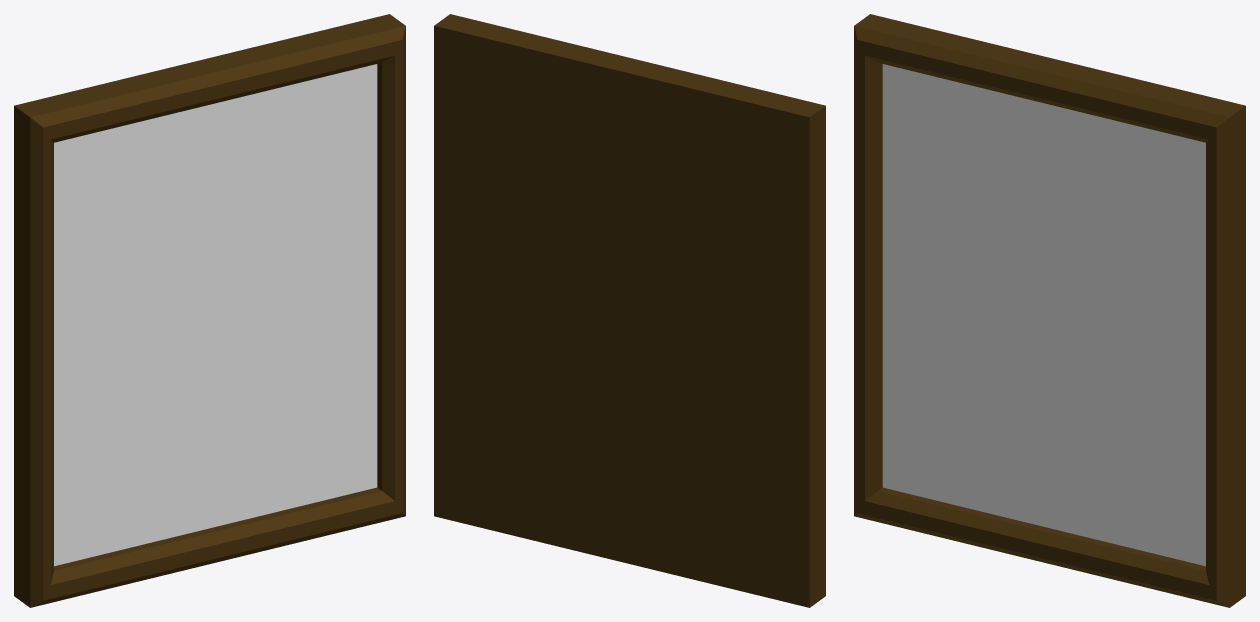
File: geo_SmallWallFrame.fbx
The picture shows the model from 3 angles, left to right: view 1: azimuth 30°, elevation 25°; view 2: azimuth 150°, elevation 25°; view 3: azimuth 330°, elevation 25°; orthographic projection.
Visible parts, largest first — view 1: pCube58; view 2: pCube58; view 3: pCube58.
Part boxes in pixels (x1,y1,x2,y2): pCube58: (14, 14, 405, 607); pCube58: (434, 14, 825, 607); pCube58: (854, 14, 1245, 607).
Bounding box in the file's own units: 25.17 × 31.41 × 2.42.
Materials: 1 (1 with a texture image).
